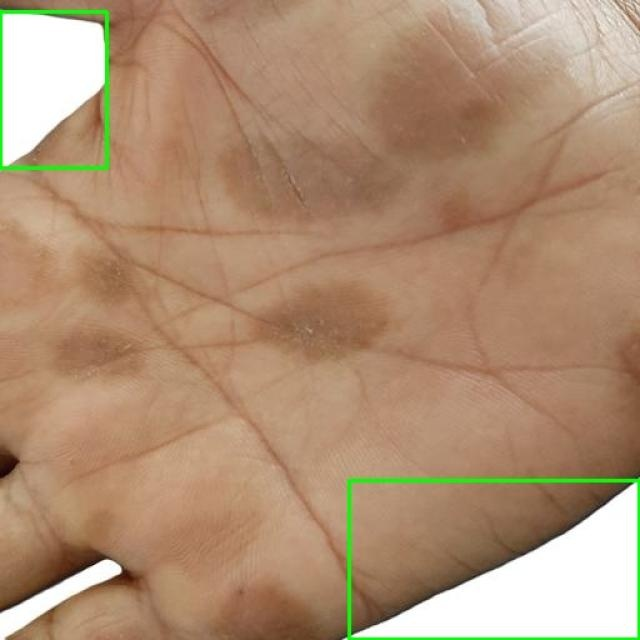Contact Dermatitis: (349, 480, 639, 639), (0, 11, 106, 168)
